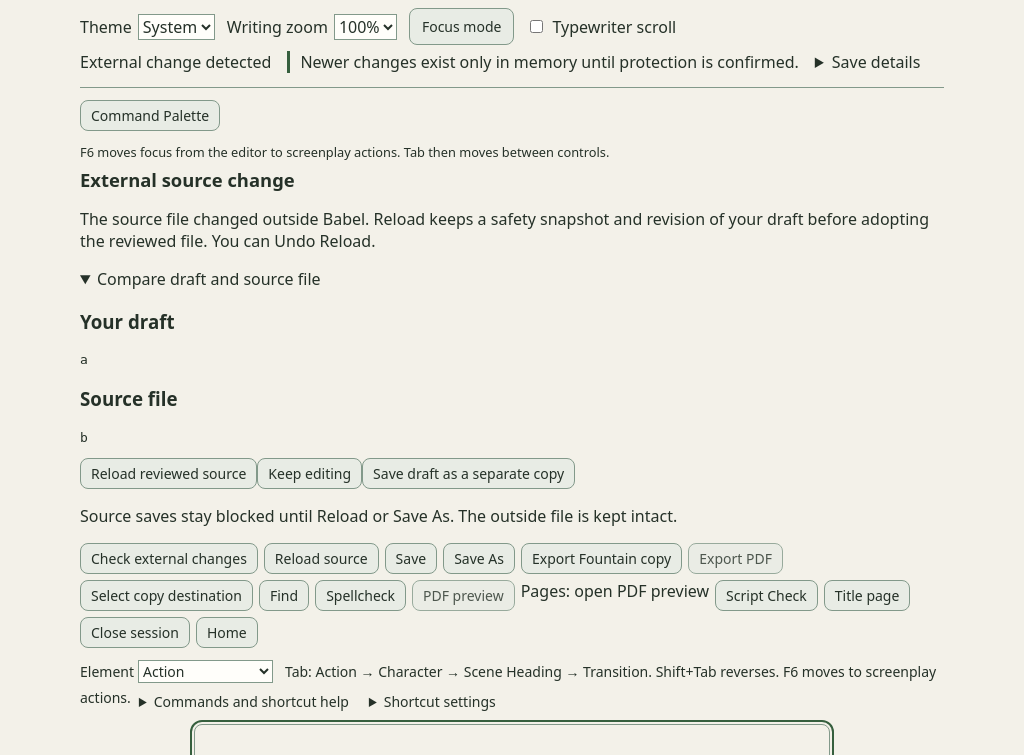
Scenario: offers source comparison, keeps editing, explicitly Reloads and preserves Undo
The image size is (1024, 755).
Check: the text "a" is shown, box [80, 352, 88, 367]
Check: the text "b" is shown, box [80, 430, 88, 445]
Click the button "Keep editing" at (310, 473), box [257, 458, 362, 489]
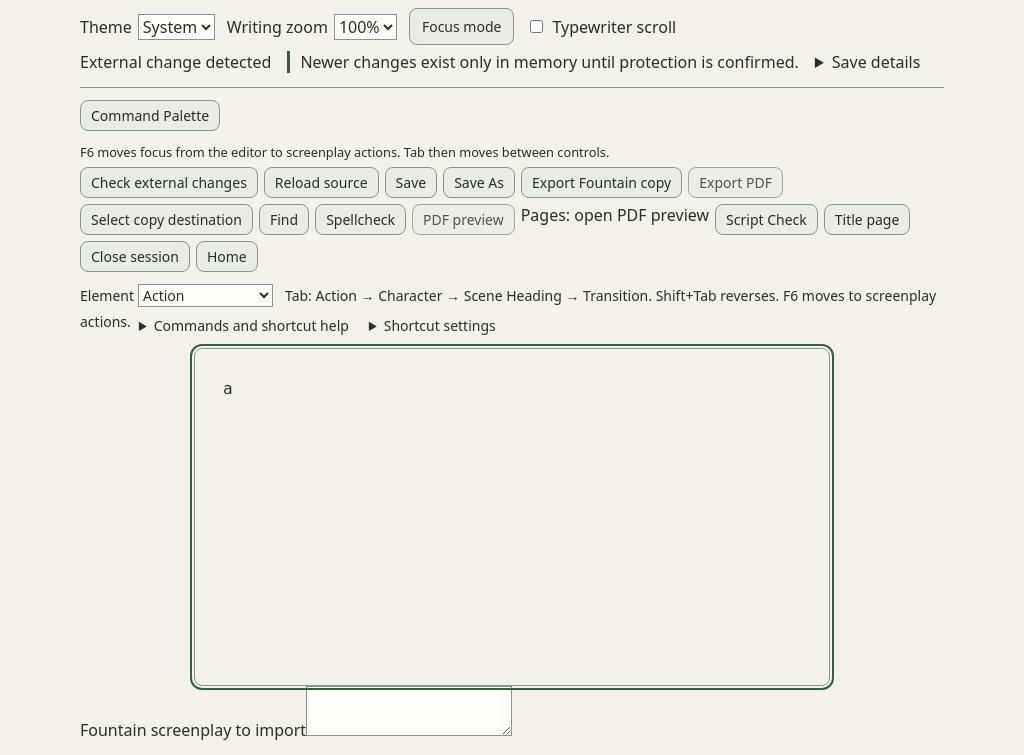
Check: the heading "External source change" is gone
Click the button "Reload source" at (321, 182), box [264, 167, 379, 198]
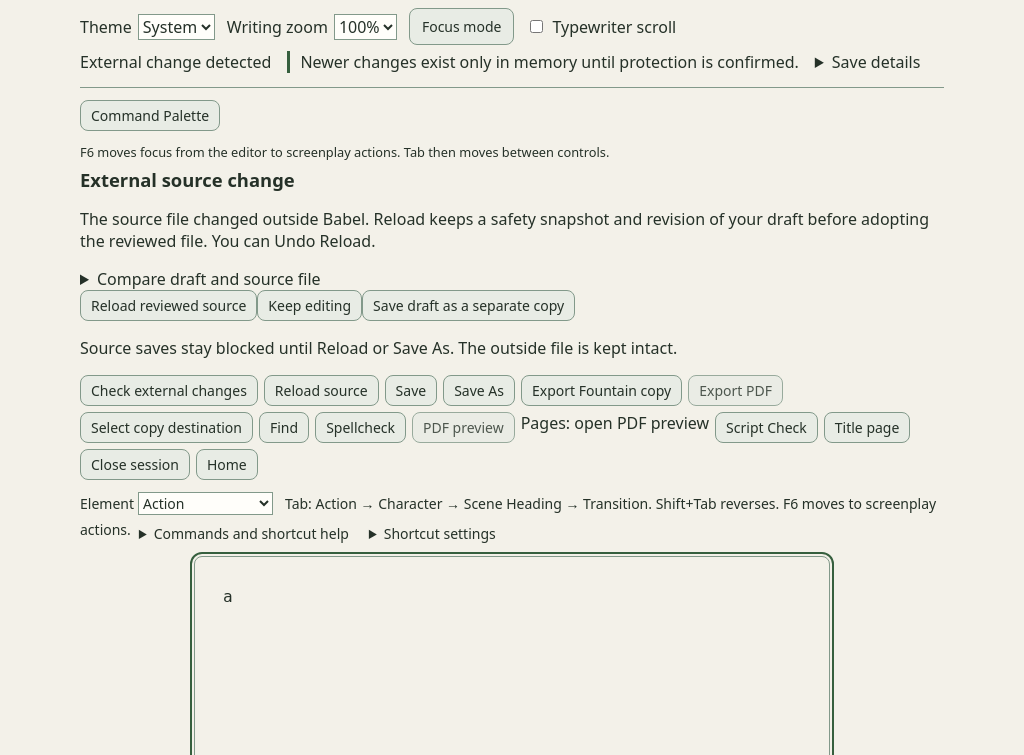
Click the button "Reload reviewed source" at (169, 306), box [80, 290, 257, 321]
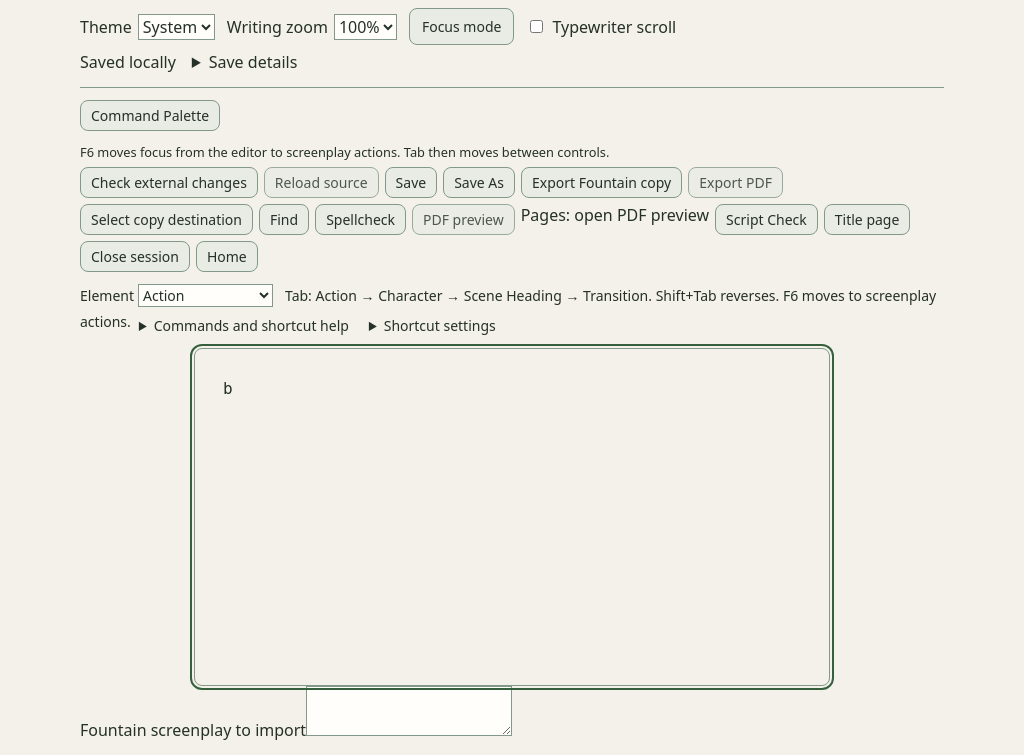
Check: the button "Save" is enabled, box [385, 167, 437, 198]
Check: the field labelled "b" is shown
Check: the button "Reload source" is disabled, box [264, 167, 379, 198]
Press z in the field labelled "b", box [194, 348, 830, 686]
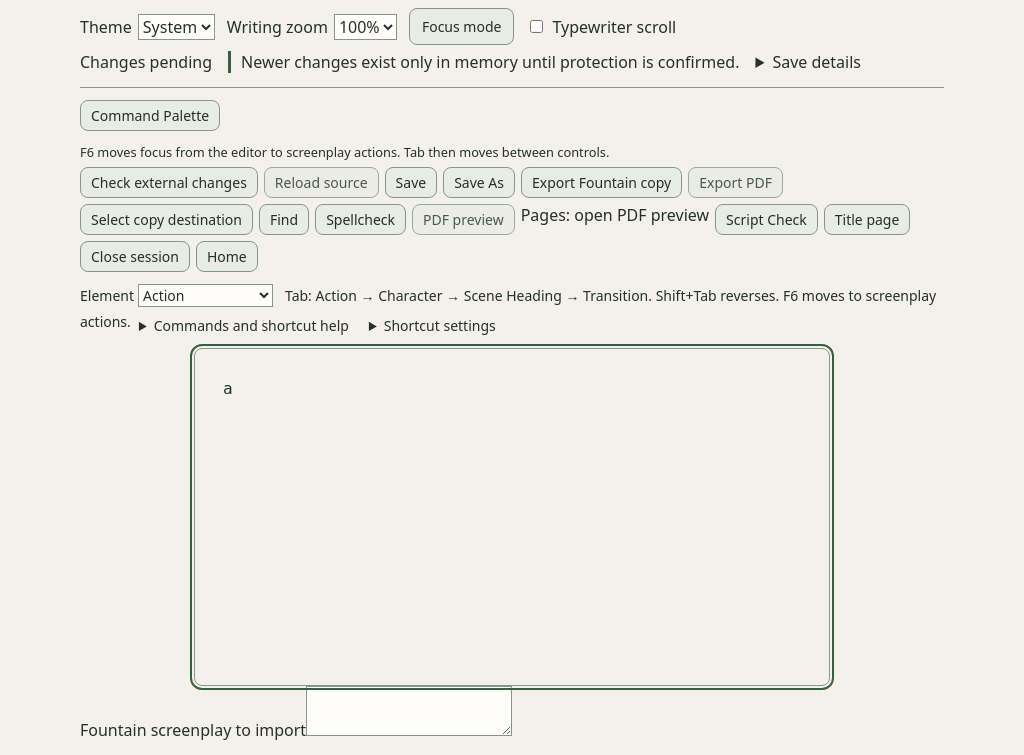
Check: the field labelled "a" is shown, box [194, 348, 830, 686]
